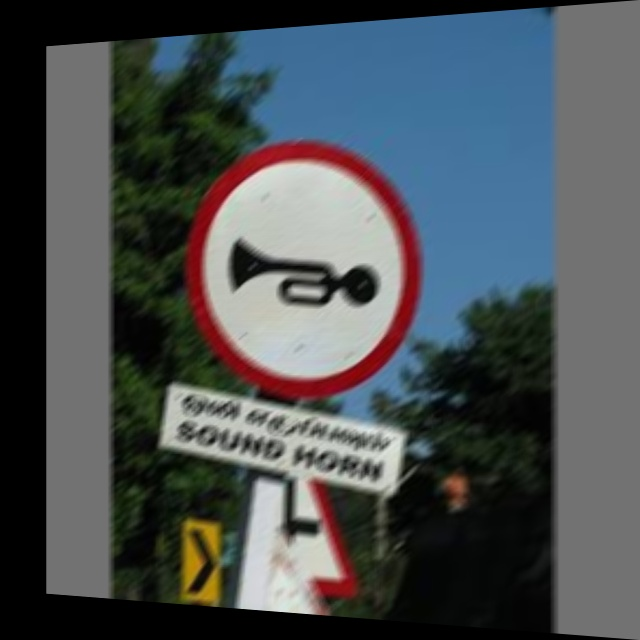Compulsory_Sound_Horn: (189, 136, 420, 391)
